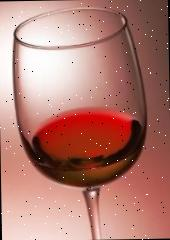glass: (11, 5, 150, 240)
